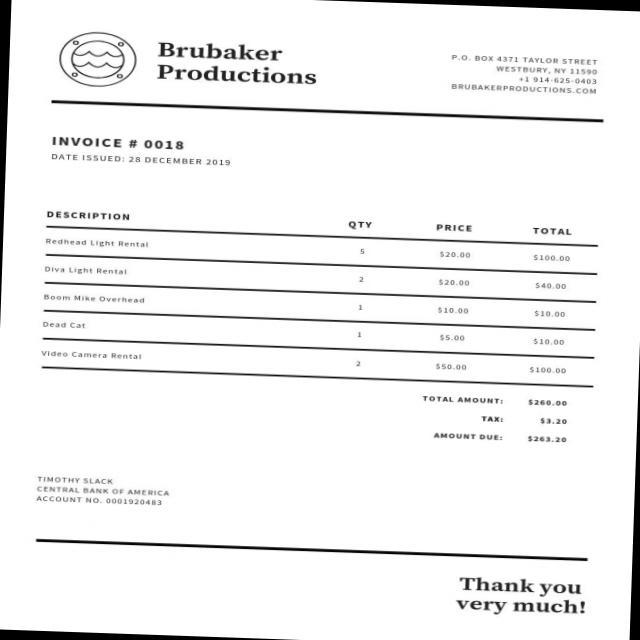invoice_date: (48, 151, 235, 173)
invoice_number: (127, 136, 196, 154)
invoice_subtotal: (524, 397, 572, 409)
invoice_total: (522, 433, 572, 448)
item_description: (40, 234, 155, 366)
item_quantity: (348, 243, 372, 379)
item_total_price: (528, 250, 573, 380)
item_unit_price: (431, 246, 477, 378)
supplier_address: (445, 49, 607, 76)
supplier_name: (152, 40, 318, 88)
tax_amount: (536, 414, 573, 426)
